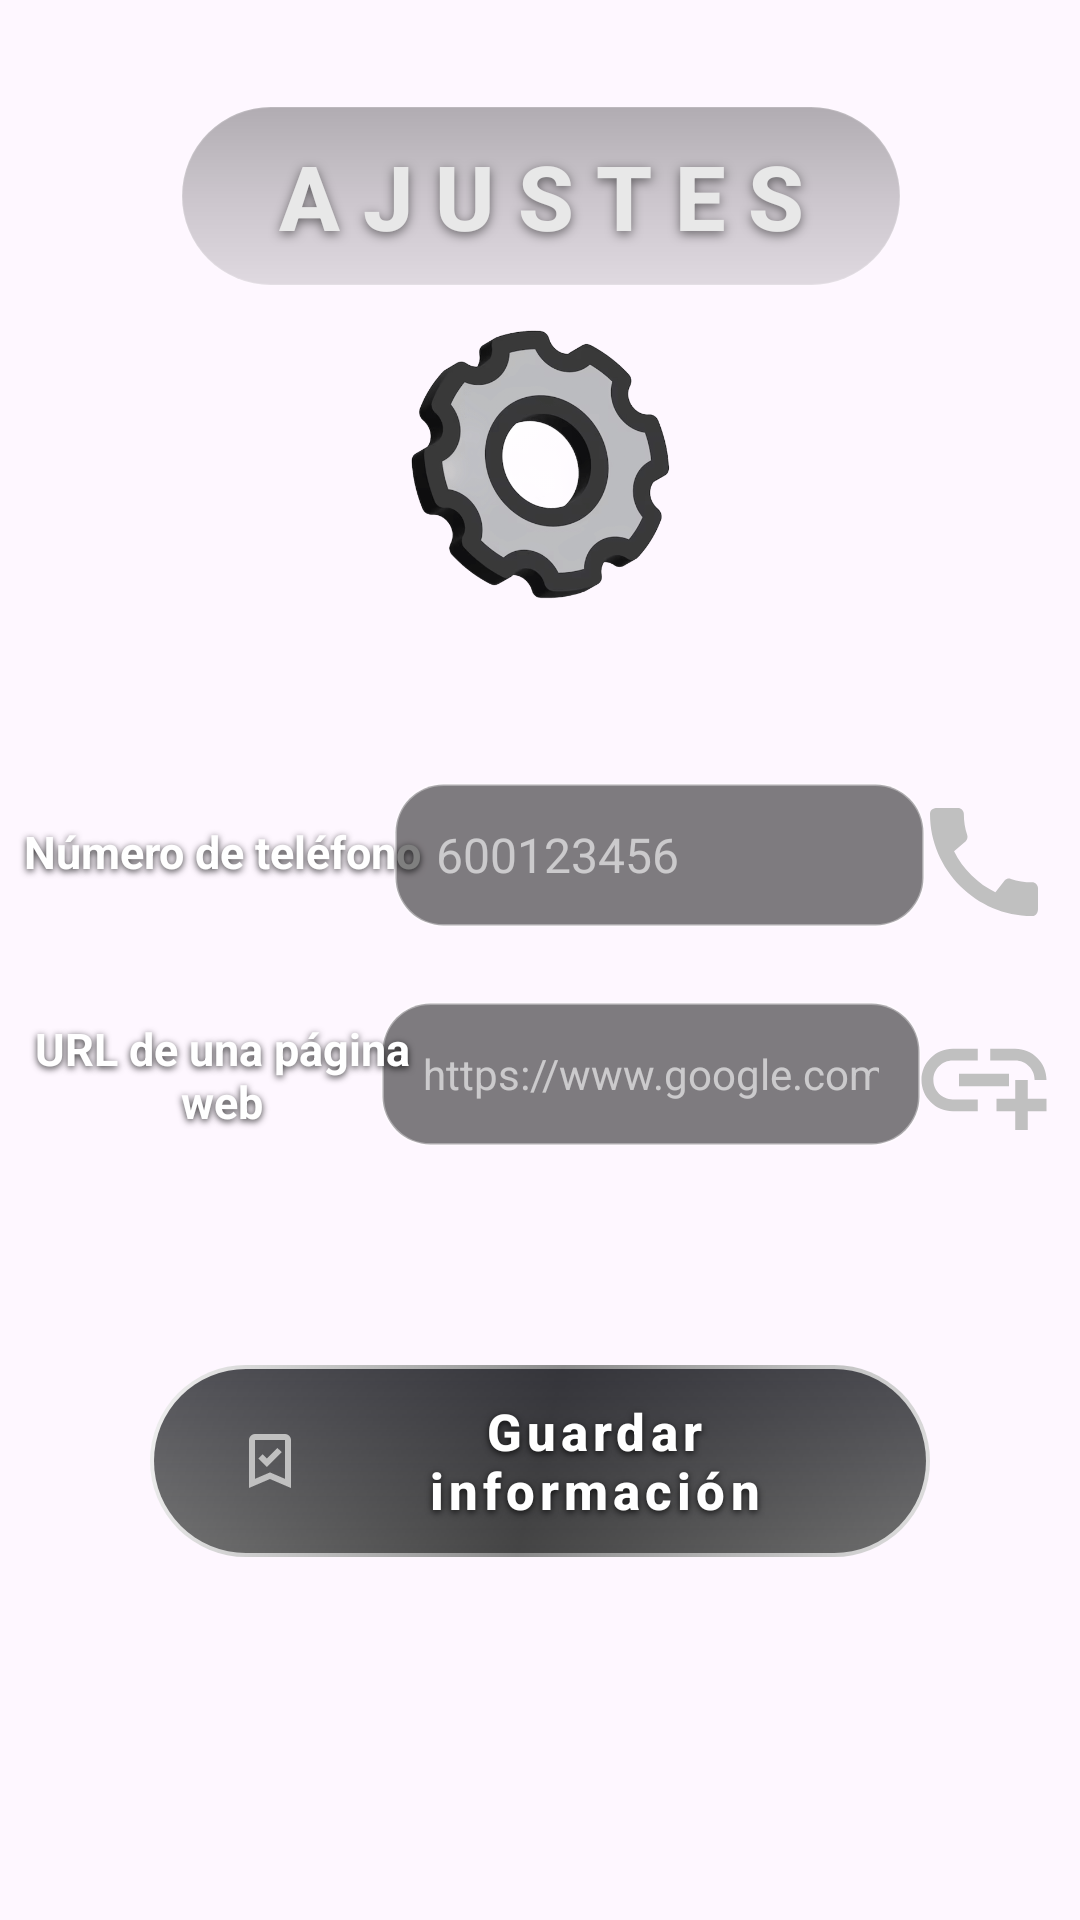

Icons on this 1080px×1920px Android screen, each with the point to tap as [x,y]:
telefono plata: [984,862]
url plata: [984,1089]
